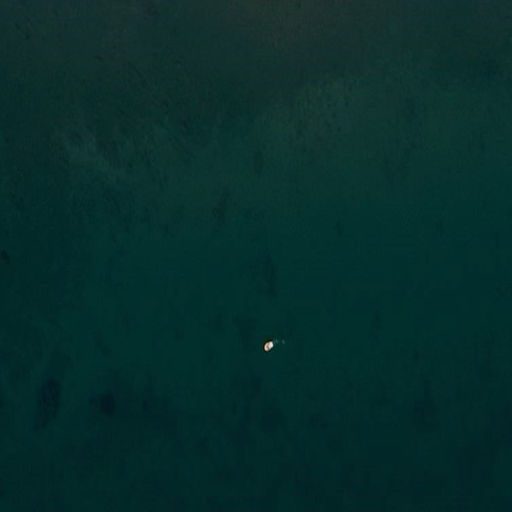ship: (262, 339, 275, 353)
